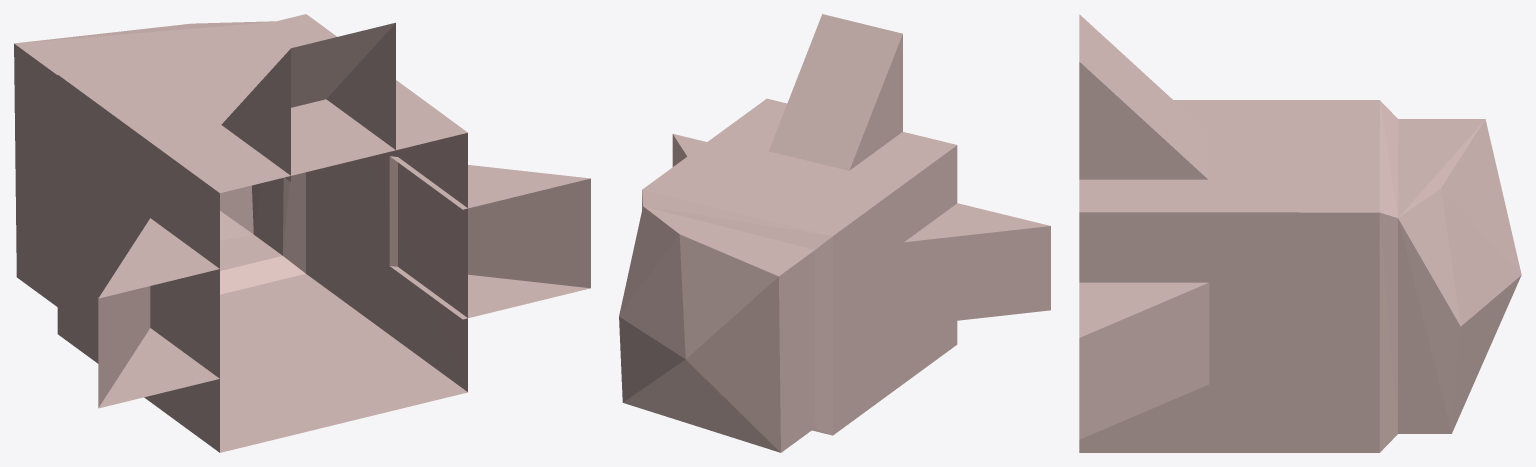
3 views of the same model, side by side, from view 1: azimuth 30°, elevation 25°; view 2: azimuth 150°, elevation 25°; view 3: azimuth 270°, elevation 25° (orthographic). The views are drawn at different scales.
Parts seen in each view (by area): view 1: Object31; view 2: Object31; view 3: Object31.
Part boxes in pixels (x1,y1,x2,y2): Object31: [14, 14, 590, 452]; Object31: [619, 14, 1050, 452]; Object31: [1079, 14, 1521, 452].
Size of the model in its own units: 27200 by 20433 by 22827.
